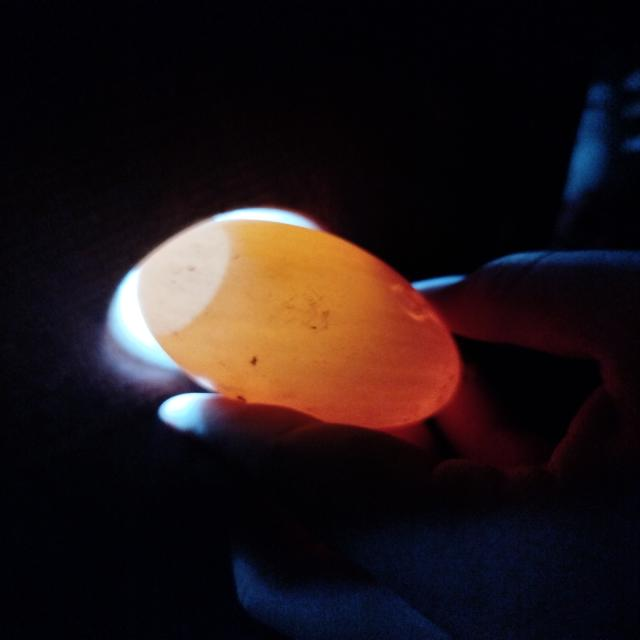Camara de Ar: (138, 222, 228, 334)
Gema Quebrada: (261, 253, 461, 426)
